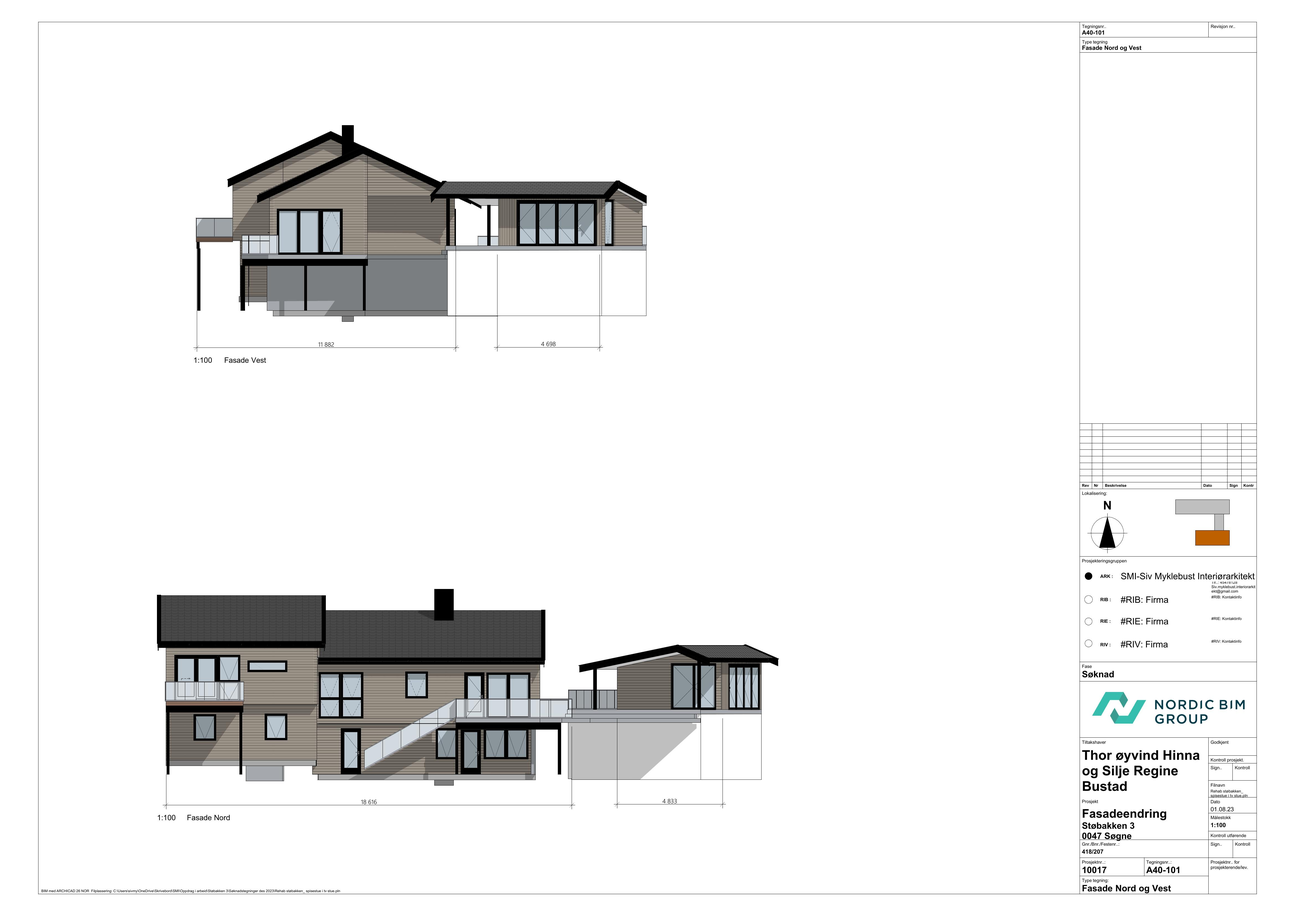fasade: (142, 573, 783, 796), (188, 118, 656, 341)
